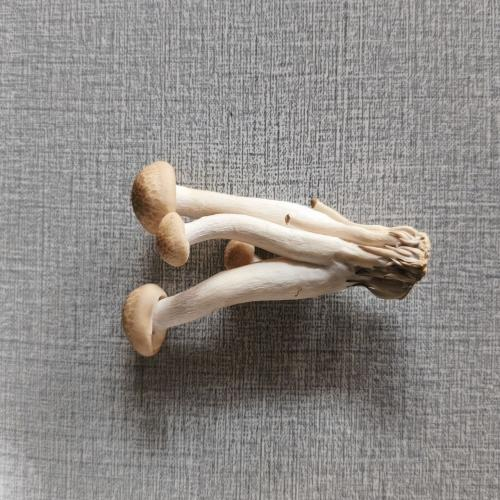Enoki Mushroom: (92, 156, 436, 419)
